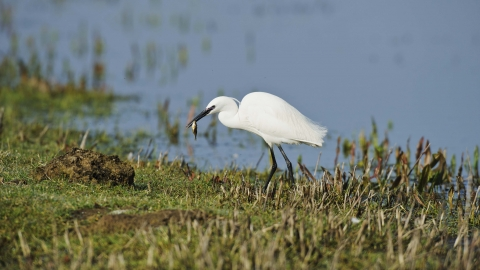bird: (180, 86, 340, 201)
